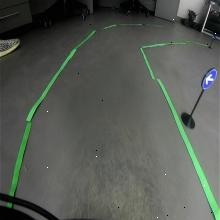left: (201, 69, 218, 92)
